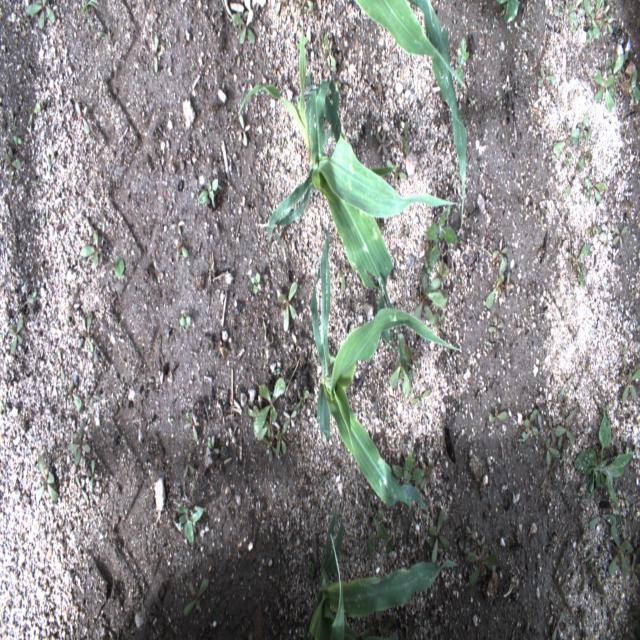crop: (239, 30, 457, 312), (311, 226, 464, 510), (353, 0, 468, 226), (307, 511, 456, 638)
weed: (573, 404, 633, 514), (427, 209, 459, 270), (252, 382, 286, 439), (389, 332, 418, 397), (414, 274, 450, 320), (174, 500, 204, 548), (466, 554, 502, 590), (366, 503, 389, 558), (277, 281, 299, 336), (428, 511, 449, 566), (566, 243, 590, 290), (609, 526, 630, 579), (182, 577, 210, 616), (36, 456, 60, 501), (591, 70, 615, 114), (230, 9, 257, 48), (76, 227, 102, 267), (391, 453, 423, 485), (70, 423, 92, 466), (25, 0, 58, 27), (583, 166, 607, 201), (366, 614, 400, 636), (621, 369, 640, 408), (582, 0, 601, 39), (557, 387, 577, 424), (595, 0, 615, 37), (568, 118, 593, 147), (148, 31, 164, 76), (320, 34, 337, 74), (552, 4, 576, 32), (8, 315, 25, 354), (234, 112, 251, 151), (551, 138, 573, 168), (496, 0, 520, 27), (74, 102, 92, 137), (486, 273, 504, 308), (4, 146, 22, 180), (521, 408, 538, 444), (456, 34, 470, 77), (182, 409, 201, 440), (198, 179, 219, 207), (82, 311, 95, 356), (64, 379, 82, 408), (276, 419, 289, 459), (589, 565, 605, 597), (587, 514, 619, 530), (424, 310, 446, 332), (411, 385, 434, 406), (374, 127, 389, 159), (537, 66, 557, 90), (573, 150, 591, 176), (611, 224, 629, 249), (74, 474, 88, 506), (418, 463, 433, 492), (558, 428, 576, 452), (205, 435, 222, 460), (169, 209, 186, 234), (262, 434, 277, 462), (76, 1, 98, 20), (181, 452, 197, 478), (87, 458, 98, 495), (387, 160, 407, 180), (575, 550, 595, 570), (546, 416, 564, 438), (395, 221, 410, 247), (628, 70, 639, 105), (114, 250, 126, 282), (545, 435, 561, 459), (487, 409, 509, 426), (552, 610, 565, 638), (486, 314, 504, 334), (339, 264, 348, 303), (614, 52, 629, 75), (585, 219, 604, 237), (544, 459, 557, 485), (293, 0, 317, 14), (29, 98, 40, 128), (176, 239, 189, 264), (493, 239, 510, 258), (270, 0, 290, 15), (561, 372, 574, 395), (98, 28, 114, 46), (62, 302, 74, 326), (84, 391, 102, 407), (6, 110, 19, 132), (250, 272, 263, 294), (57, 350, 65, 385), (296, 390, 310, 410), (617, 343, 629, 366), (179, 311, 193, 330), (46, 149, 58, 171), (534, 207, 546, 229), (42, 204, 52, 230), (402, 122, 410, 154), (321, 58, 335, 76), (438, 262, 450, 282), (284, 410, 296, 430), (466, 526, 478, 546), (632, 556, 640, 586), (145, 372, 161, 387), (227, 110, 237, 132), (235, 46, 245, 68), (538, 411, 544, 445), (386, 533, 394, 558), (479, 532, 488, 552), (304, 560, 314, 578), (424, 258, 433, 277), (505, 274, 512, 297), (565, 180, 573, 200), (14, 134, 25, 148), (194, 402, 205, 416), (607, 53, 614, 75), (21, 10, 30, 27), (33, 173, 42, 190), (29, 290, 39, 304), (499, 260, 508, 272), (612, 86, 619, 101), (164, 414, 174, 424), (272, 366, 281, 377), (586, 31, 592, 46), (279, 138, 284, 155), (120, 373, 126, 387)
